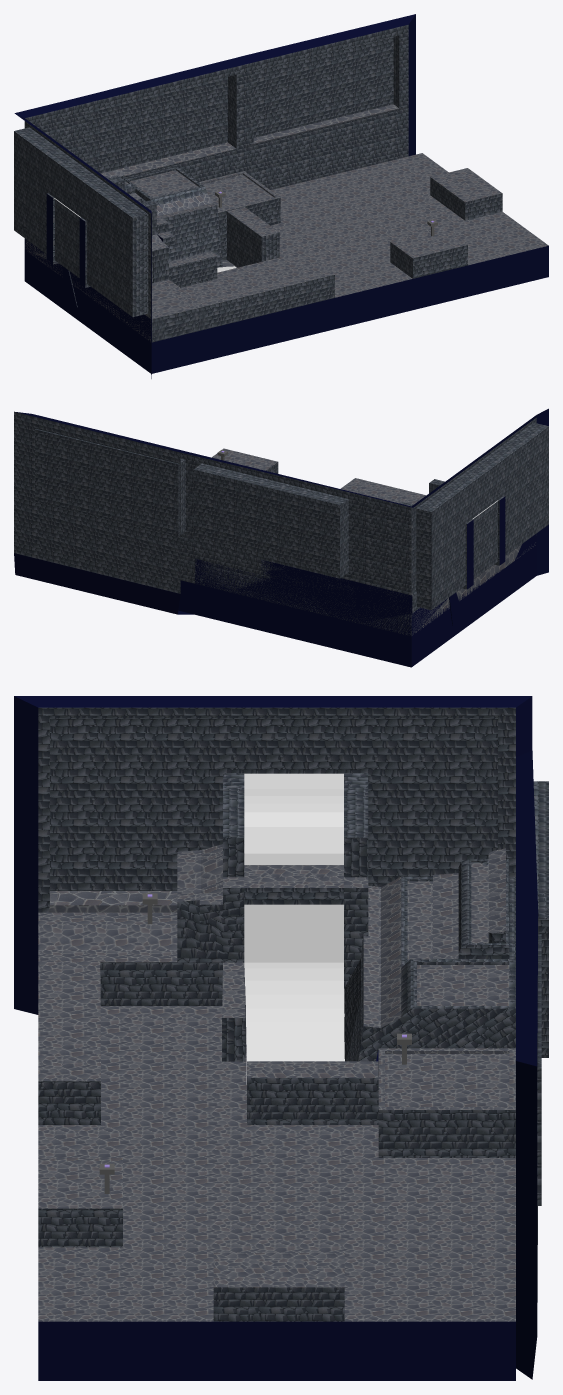
Rendered from локация нормад c ldthm..fbx.
3 views of the same model, one above another, from view 1: azimuth 30°, elevation 25°; view 2: azimuth 150°, elevation 25°; view 3: azimuth 270°, elevation 25° (orthographic). The views are drawn at different scales.
Visible parts, largest first — view 1: Cube.005; view 2: Cube.005; view 3: Cube.005.
Part boxes in pixels (x1,y1,x2,y2): Cube.005: (14, 14, 548, 378); Cube.005: (14, 408, 548, 667); Cube.005: (14, 696, 548, 1380).
Bounding box in the file's own units: 4900 × 1878 × 2904.
